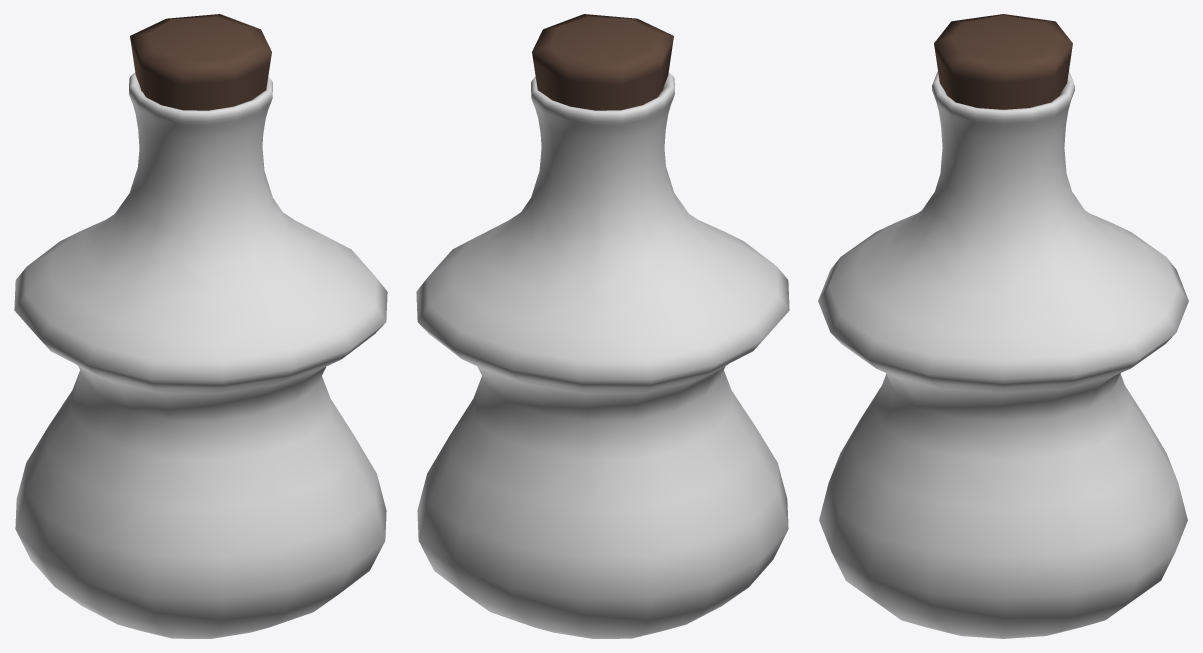
File: quaternius-rpg-items-pack-potion5-filled.glb
3 renders of one model, left to right at view 1: azimuth 30°, elevation 25°; view 2: azimuth 150°, elevation 25°; view 3: azimuth 270°, elevation 25°, orthographic.
Visible parts, largest first — view 1: Potion5_Filled; view 2: Potion5_Filled; view 3: Potion5_Filled.
Boxes of the visible parts, left/top/right/bottom form: Potion5_Filled: left=14, top=14, right=387, bottom=638; Potion5_Filled: left=416, top=14, right=789, bottom=638; Potion5_Filled: left=818, top=14, right=1188, bottom=638.
Bounding box in the file's own units: 0.7081 × 1.23 × 0.7081.
